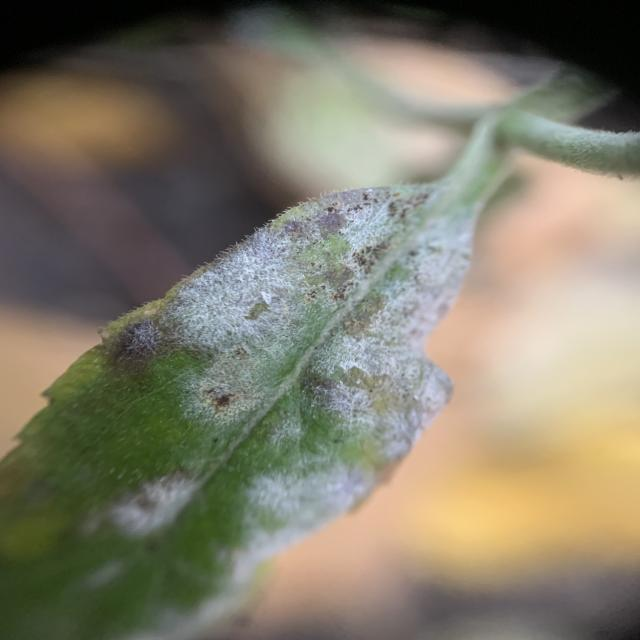powdery_mildew: (0, 119, 499, 640)
